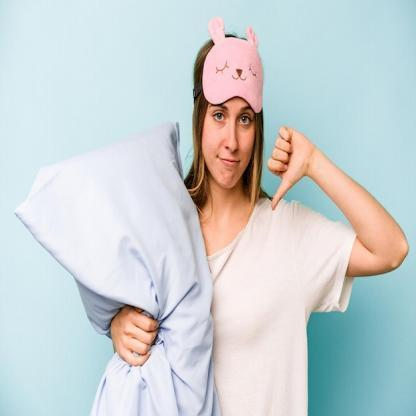thumb_down: (264, 118, 315, 222)
